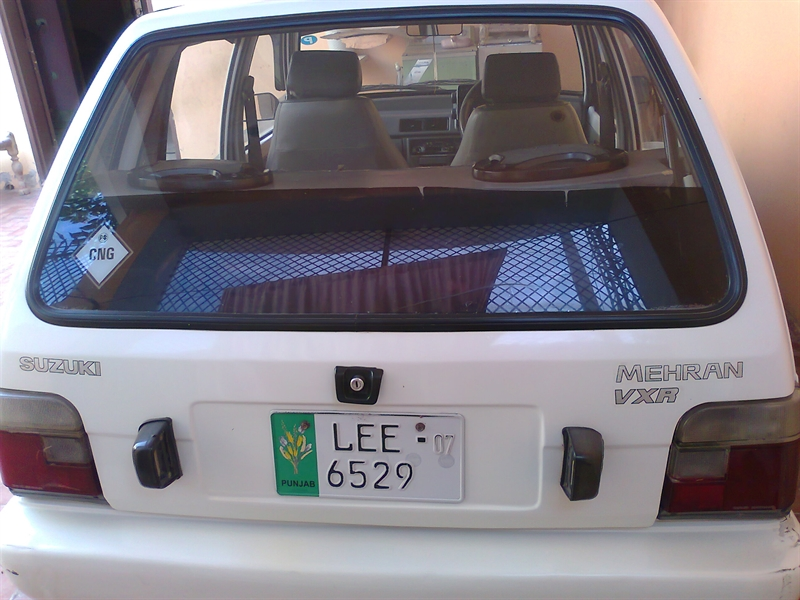plate: (265, 407, 472, 508)
